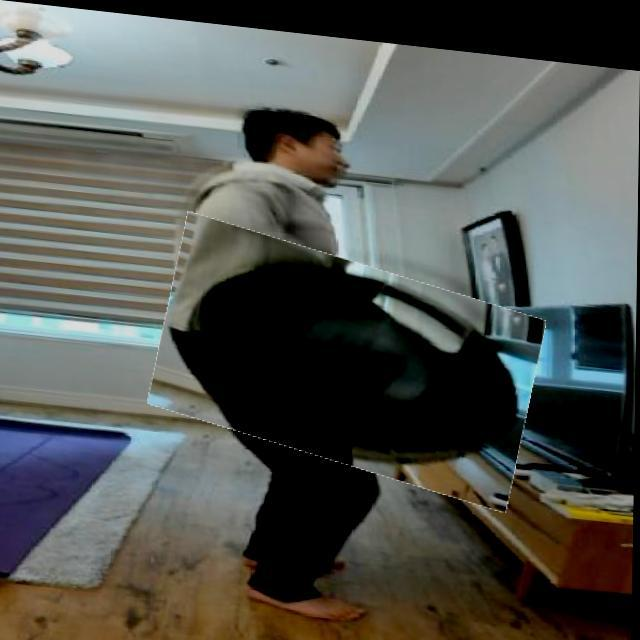barbell: (157, 222, 541, 488)
